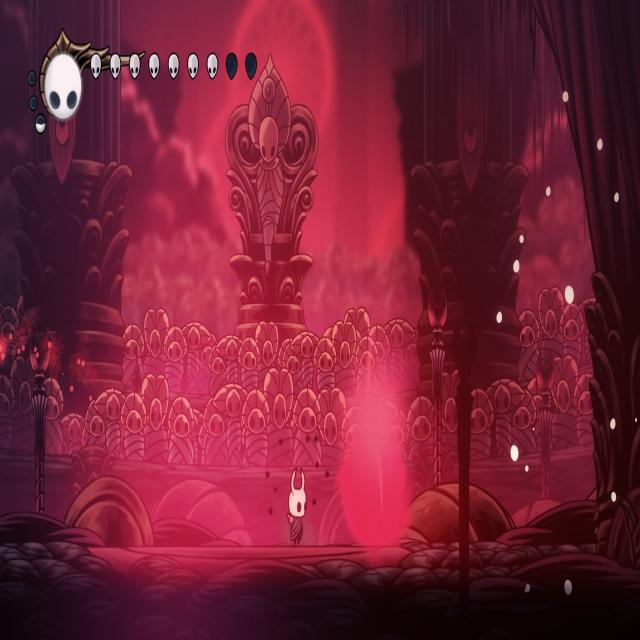Player: (283, 462, 310, 547)
